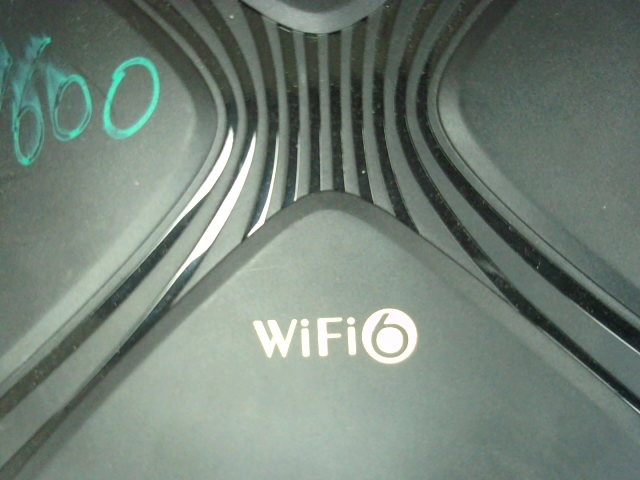AK_ZTEWIFI6Black: (240, 301, 437, 369)
